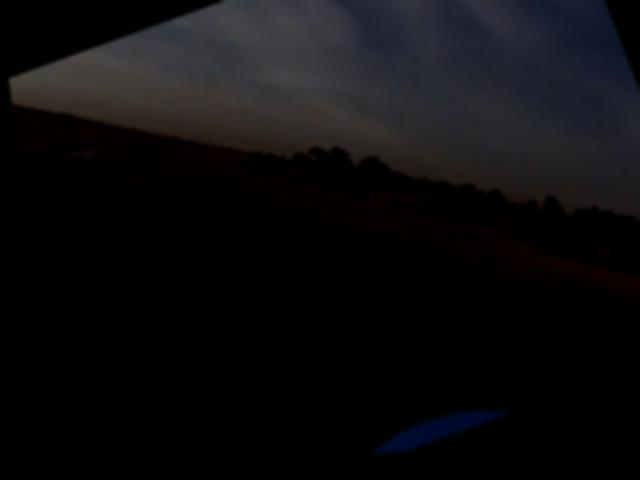uav: (47, 133, 114, 176)
